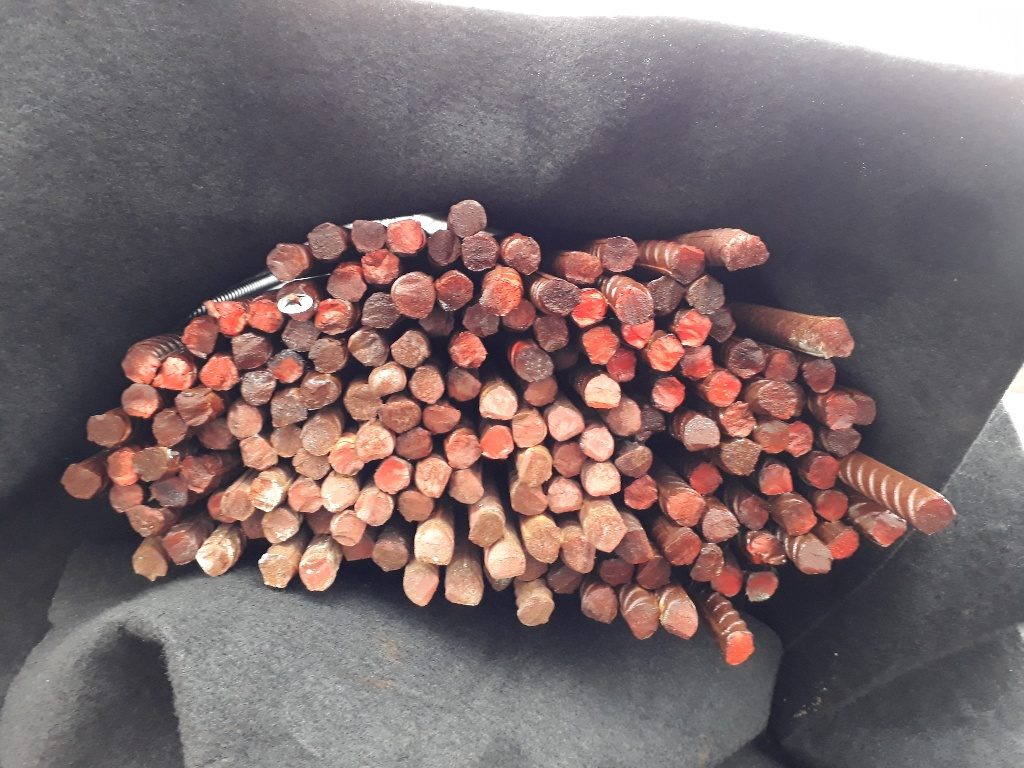dipstick: (265, 244, 308, 282), (726, 233, 769, 269), (394, 275, 432, 315), (300, 552, 337, 592), (759, 382, 797, 419), (414, 530, 453, 566), (915, 499, 955, 534), (308, 221, 345, 258), (349, 330, 387, 366), (686, 279, 724, 315), (819, 318, 853, 358), (279, 284, 316, 320), (723, 439, 760, 475), (729, 341, 765, 377), (781, 499, 817, 535), (63, 464, 100, 499), (589, 516, 624, 553), (416, 459, 450, 497), (466, 513, 504, 547), (302, 376, 338, 411), (583, 326, 617, 363), (667, 493, 704, 527), (439, 274, 472, 312), (664, 601, 697, 639), (175, 390, 210, 425), (403, 570, 438, 605), (450, 201, 486, 235), (316, 299, 352, 333), (450, 468, 484, 504), (328, 268, 365, 301), (651, 278, 682, 317), (652, 332, 683, 371), (393, 332, 428, 366), (310, 340, 345, 374), (526, 528, 560, 563), (322, 478, 358, 511), (617, 289, 653, 322), (482, 281, 519, 313), (183, 319, 215, 356), (506, 239, 540, 273), (229, 404, 262, 439), (535, 316, 568, 351), (545, 281, 580, 314), (626, 604, 659, 639), (123, 382, 155, 418), (240, 438, 276, 470), (585, 464, 621, 496), (515, 349, 552, 380), (123, 349, 156, 383), (273, 394, 306, 428), (446, 573, 480, 606), (568, 252, 602, 285), (585, 375, 619, 408), (652, 377, 685, 411), (721, 404, 755, 437), (519, 451, 551, 486), (362, 252, 398, 283), (87, 415, 123, 446), (749, 534, 785, 565), (625, 478, 658, 511), (705, 509, 738, 542), (583, 589, 616, 622), (387, 221, 421, 253), (202, 358, 236, 390), (234, 335, 266, 369), (302, 422, 336, 454), (481, 388, 515, 420), (604, 237, 638, 269), (667, 532, 701, 564), (619, 531, 653, 563), (798, 542, 832, 574), (154, 412, 185, 447), (357, 494, 392, 525), (617, 446, 652, 477), (450, 336, 486, 366), (739, 495, 769, 531), (684, 418, 721, 447), (393, 430, 431, 458), (462, 237, 494, 270), (247, 299, 280, 331), (241, 372, 274, 404), (481, 427, 514, 459), (674, 247, 706, 280), (678, 313, 711, 345), (682, 345, 714, 378), (756, 421, 788, 454), (412, 368, 443, 402), (263, 511, 297, 542), (358, 429, 393, 459), (380, 403, 420, 429), (159, 357, 191, 389), (608, 404, 641, 435), (816, 491, 849, 522), (363, 294, 393, 328), (378, 459, 408, 493), (519, 595, 553, 625), (548, 482, 582, 512), (564, 539, 594, 573), (760, 465, 794, 495), (873, 517, 907, 547), (464, 305, 499, 334), (510, 485, 545, 514), (577, 291, 606, 326), (183, 457, 211, 493), (709, 373, 740, 405), (352, 220, 385, 250), (215, 300, 245, 333), (269, 352, 302, 382), (690, 463, 723, 493), (808, 456, 838, 489), (333, 513, 362, 547), (259, 556, 290, 587), (448, 436, 479, 467), (430, 231, 460, 263), (135, 550, 167, 580), (583, 428, 613, 460), (691, 551, 723, 581), (447, 371, 480, 400), (746, 572, 779, 601), (826, 397, 855, 430), (398, 492, 432, 520), (292, 452, 327, 479), (126, 508, 162, 534), (137, 450, 167, 481), (348, 391, 379, 421), (164, 532, 195, 562), (766, 351, 797, 381), (805, 361, 835, 392), (284, 322, 316, 351), (289, 482, 321, 511), (549, 411, 582, 439), (373, 542, 407, 569), (151, 480, 186, 506), (788, 421, 813, 457), (712, 567, 743, 596), (108, 452, 136, 484), (553, 444, 581, 476), (638, 561, 670, 589), (513, 418, 546, 445), (199, 545, 228, 575), (726, 635, 756, 664), (372, 366, 403, 394), (424, 406, 460, 430), (711, 309, 736, 343), (331, 446, 360, 475), (830, 530, 859, 559), (607, 351, 635, 381), (252, 478, 279, 509), (640, 406, 666, 438), (828, 430, 860, 456), (601, 560, 634, 585), (421, 312, 455, 336), (490, 556, 526, 578), (272, 428, 300, 456), (200, 423, 230, 449), (622, 323, 652, 349), (110, 484, 141, 509), (550, 569, 582, 593), (505, 302, 533, 329), (224, 491, 251, 519), (524, 383, 557, 405), (855, 396, 876, 425), (307, 513, 331, 535), (241, 519, 264, 541), (207, 493, 224, 522), (345, 545, 371, 561)
